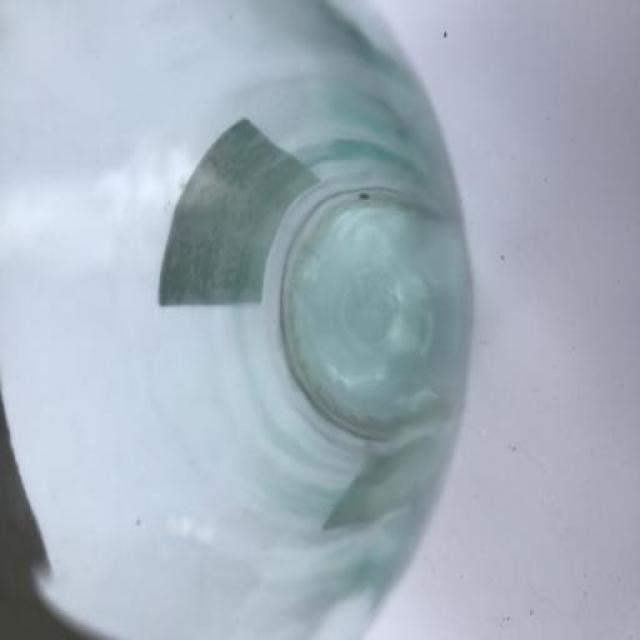Waste: (1, 2, 472, 638)
